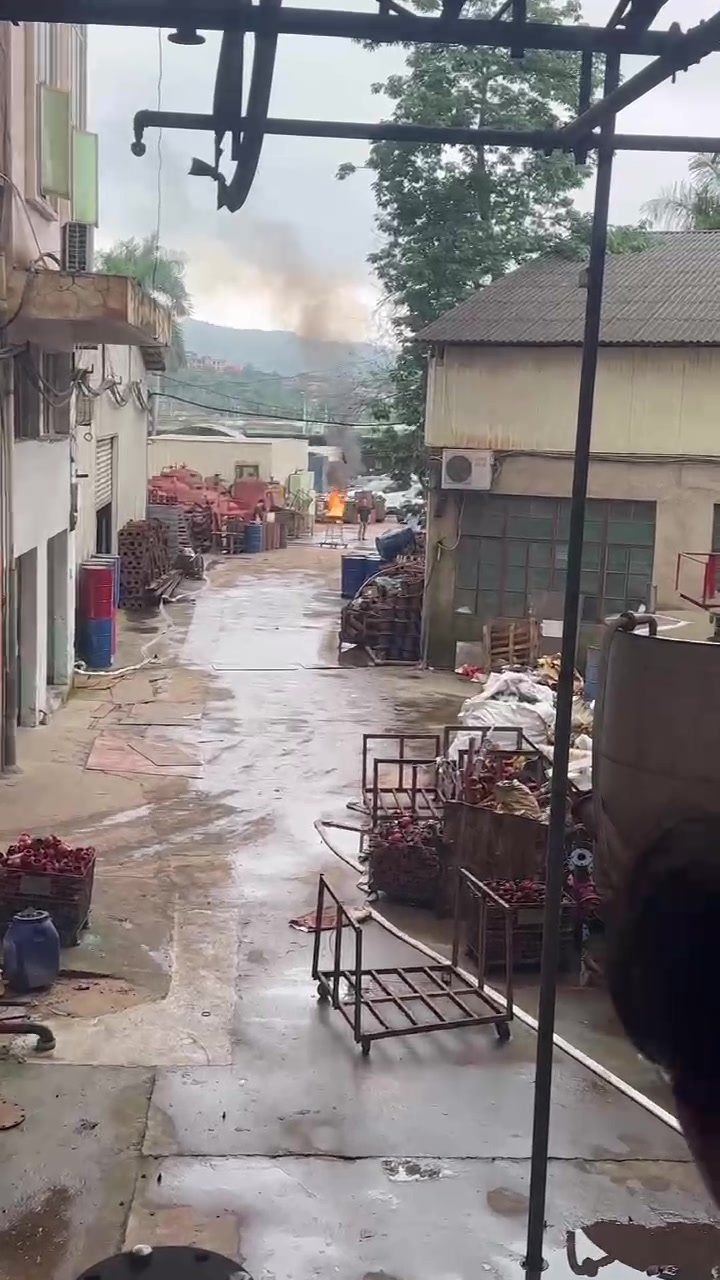fire: (324, 489, 343, 515)
